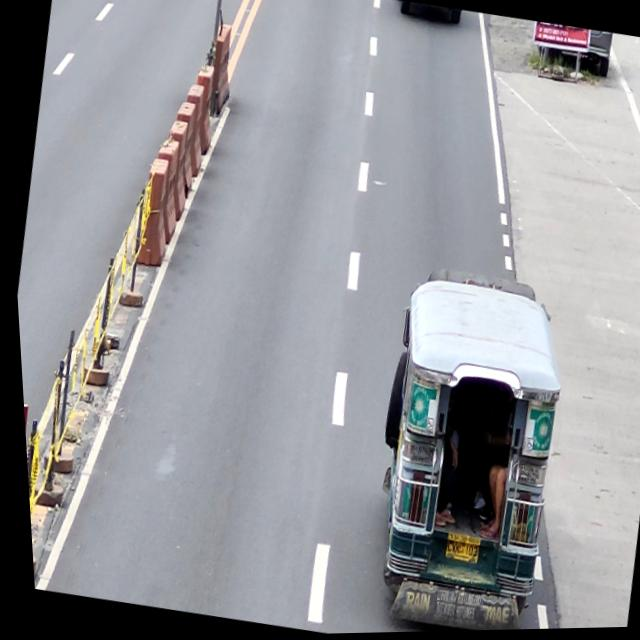Jeep: (337, 272, 581, 634)
License-Plate: (436, 540, 474, 567)
